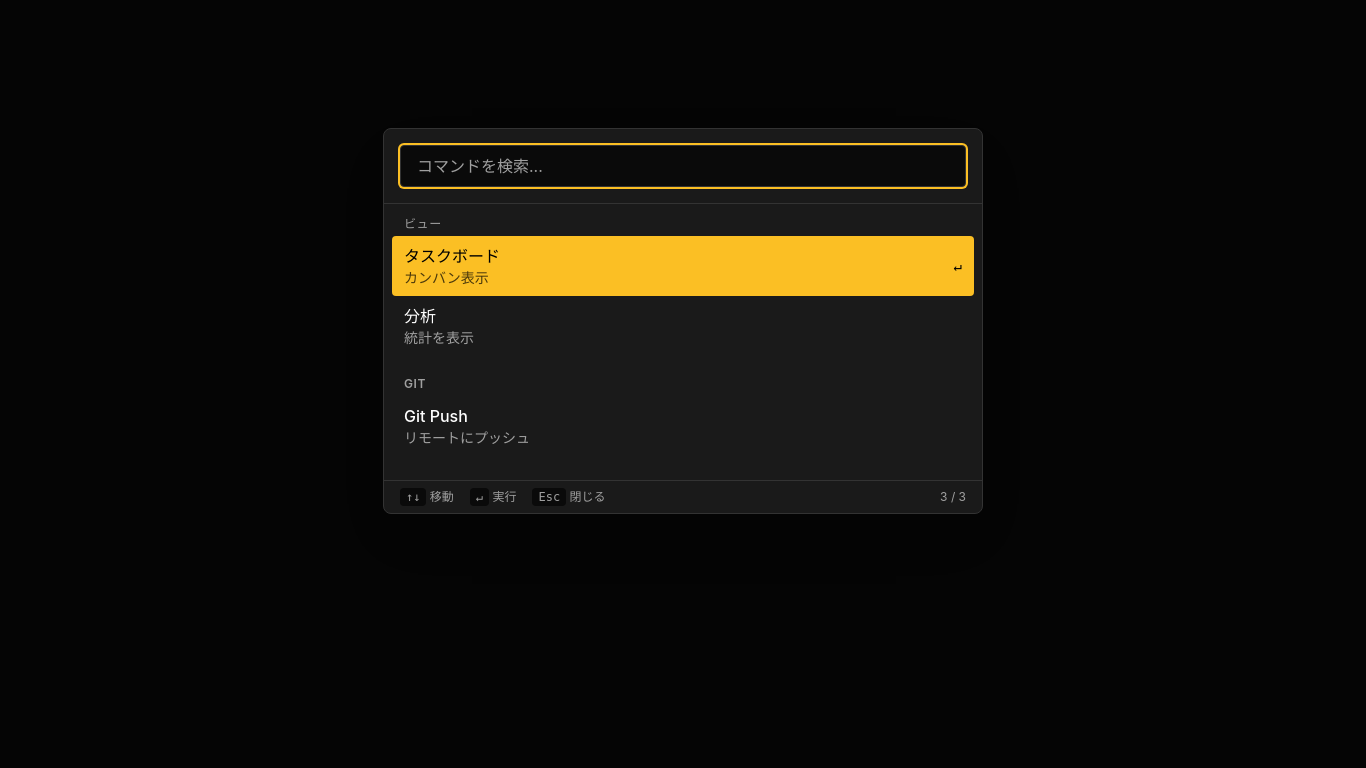
it: CommandPalette › shows filtered count after search
Type "Git" into the field with placeholder "コマンドを検索...".
click(683, 166); type("Git")  # box top-left (400, 145), bottom-right (966, 187)
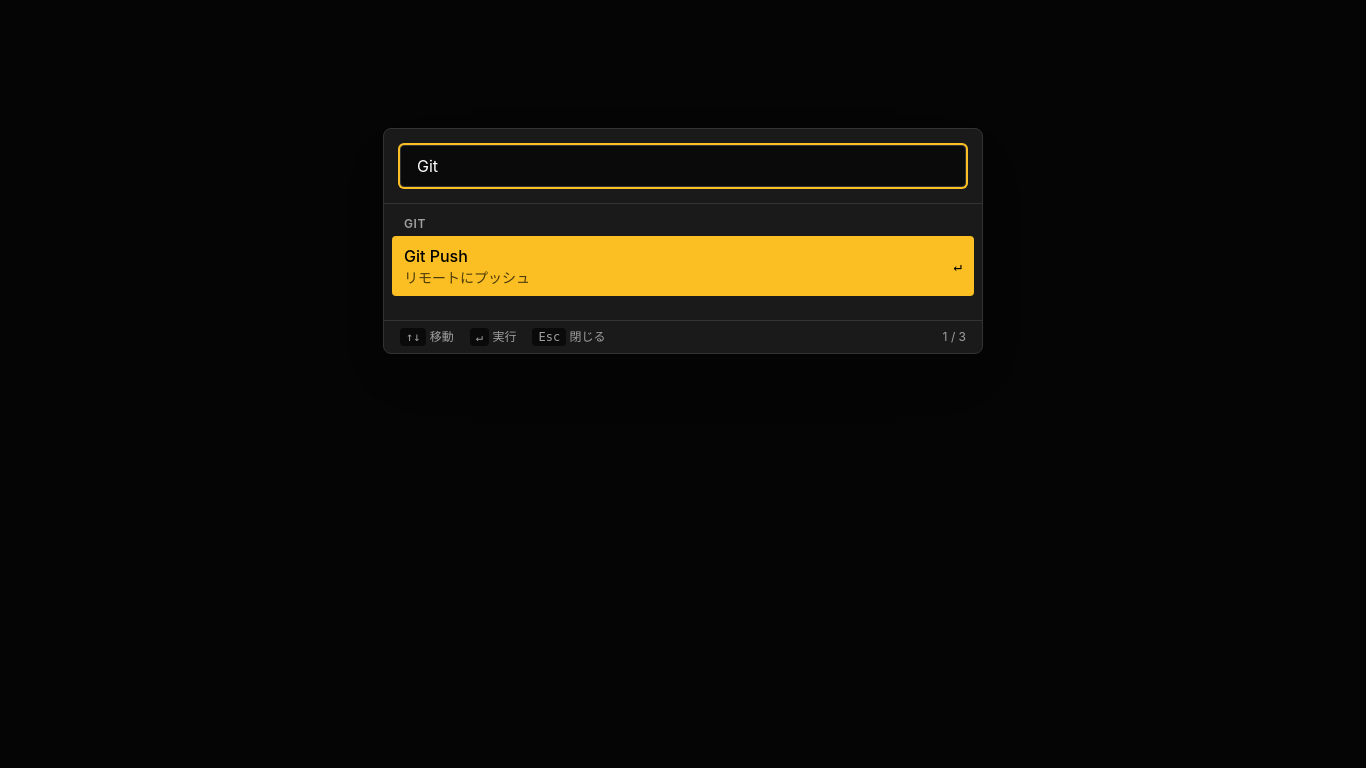
Check: the text "1 / 3" is shown, box top-left (943, 329), bottom-right (966, 345)
